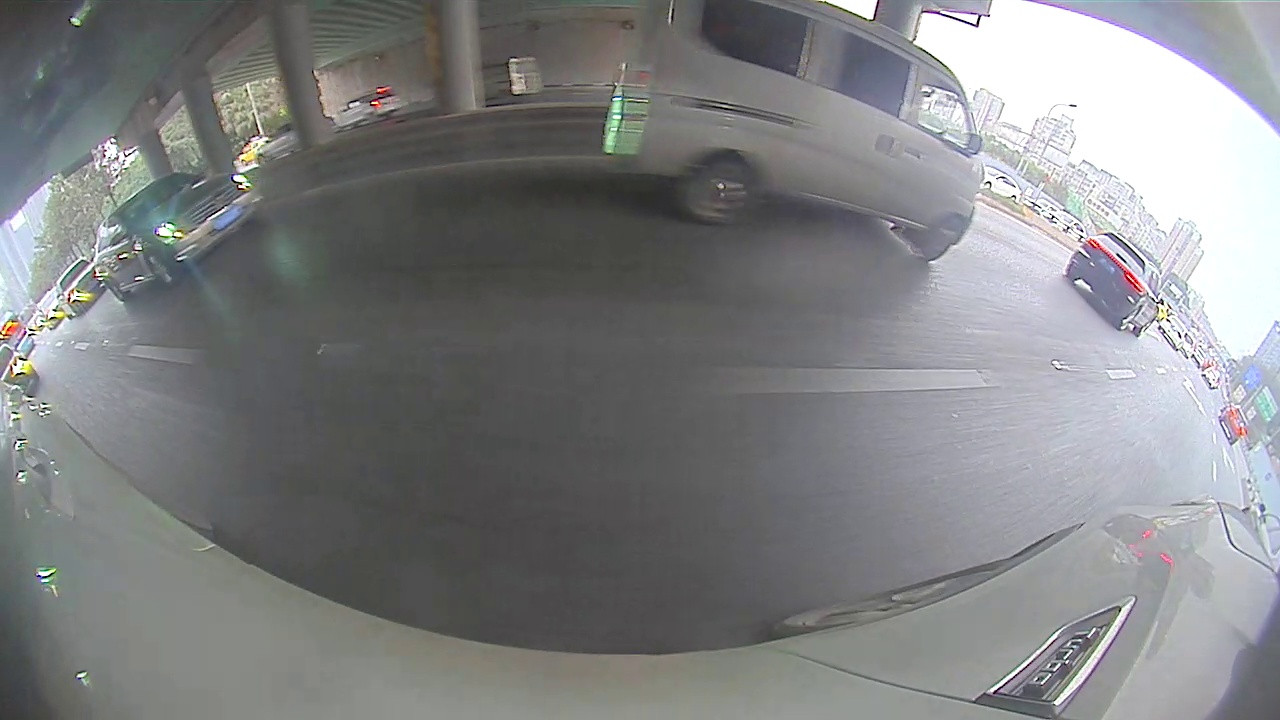car: (601, 2, 986, 259), (91, 172, 264, 301), (1068, 228, 1160, 340), (54, 259, 106, 317), (0, 341, 39, 398)
front: (922, 215, 965, 259), (146, 249, 178, 287)
rear: (680, 149, 764, 228)
